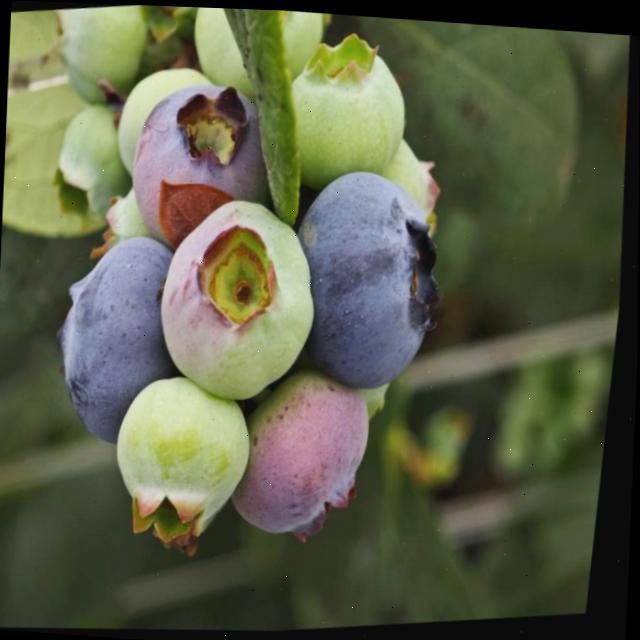RipeBlueBerry: (284, 153, 459, 406), (45, 224, 191, 461)
Semi-RipeBlueBerry: (227, 361, 390, 552), (117, 68, 281, 252)
UnripeBlueBerry: (145, 178, 335, 419), (105, 357, 272, 561), (270, 20, 419, 200), (45, 1, 150, 107)
